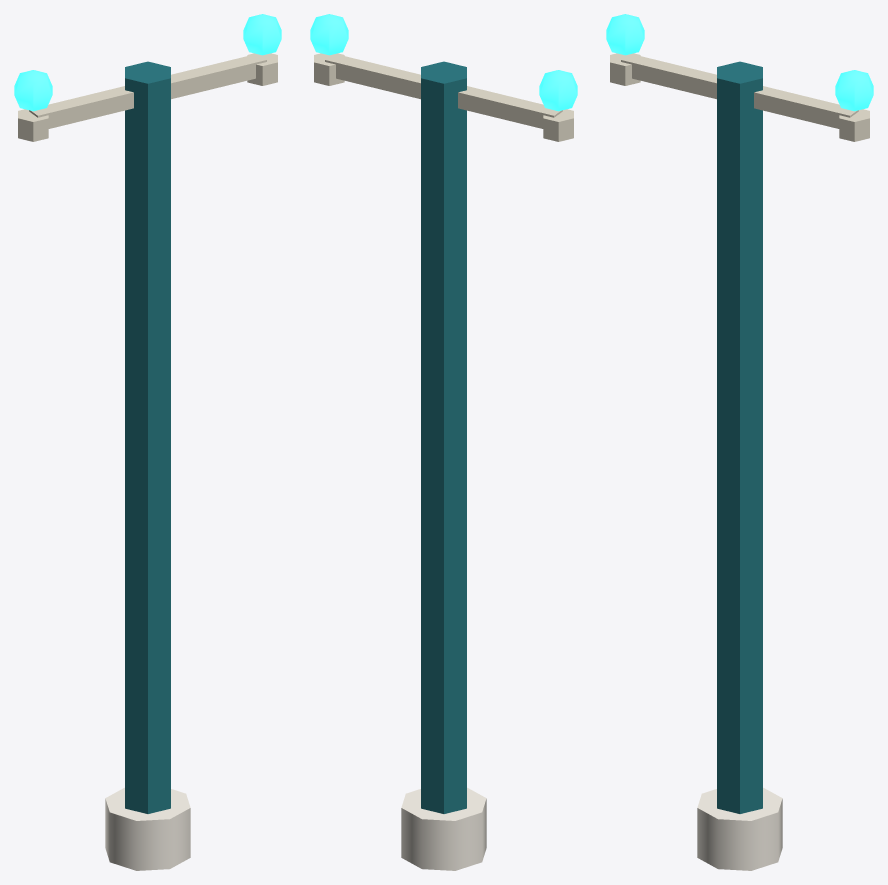
Rendered from lod_lamp_deco.glb.
3 views of the same model, side by side, from view 1: azimuth 30°, elevation 25°; view 2: azimuth 150°, elevation 25°; view 3: azimuth 330°, elevation 25° (orthographic).
Visible parts, largest first — view 1: lod_lamp_deco; view 2: lod_lamp_deco; view 3: lod_lamp_deco.
Boxes of the visible parts, x1=… form: lod_lamp_deco: x1=14, y1=14, x2=281, y2=870; lod_lamp_deco: x1=310, y1=14, x2=577, y2=870; lod_lamp_deco: x1=606, y1=14, x2=873, y2=870.
Bounding box in the file's own units: 1.4 × 4.06 × 0.4.
